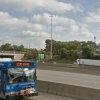buses: (0, 60, 38, 100)
